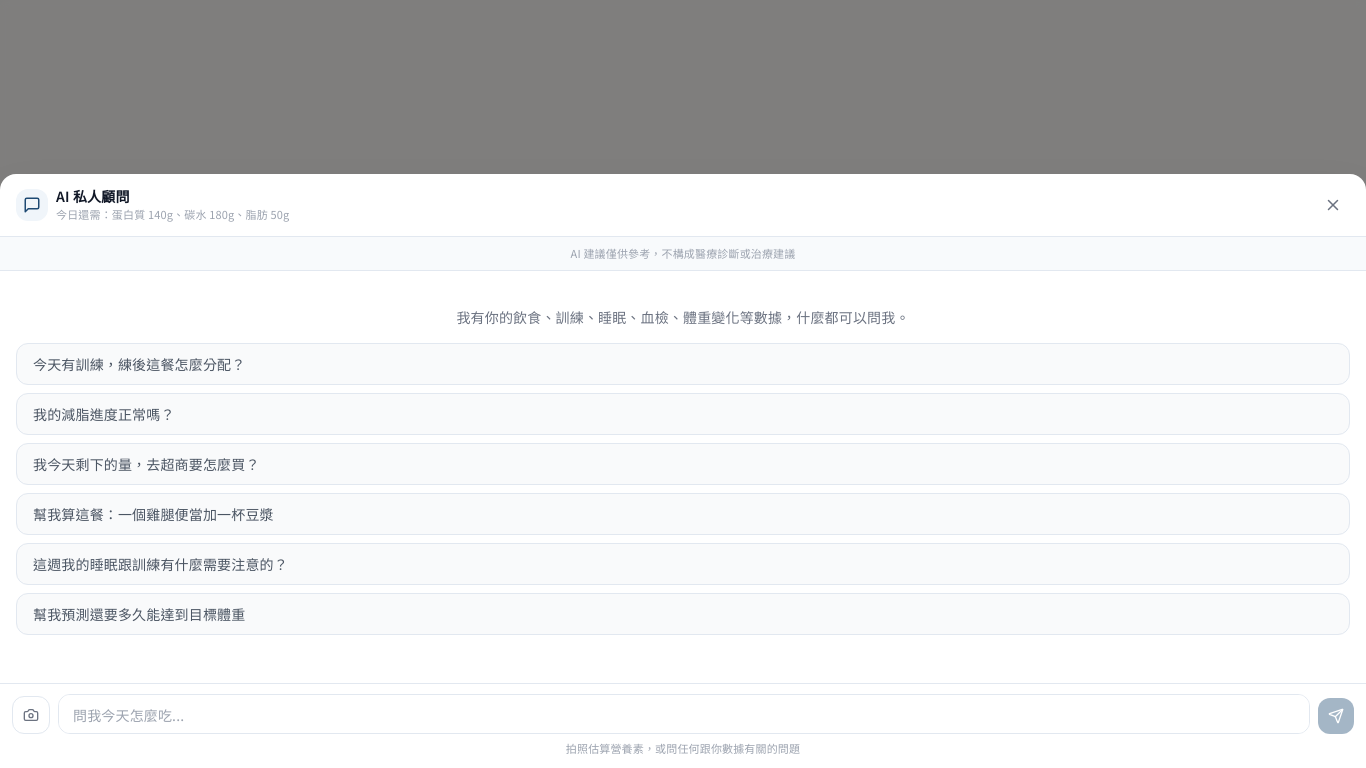
Test case: AiChatDrawer › shows loading indicator after sending a message
Type "今天吃什麼" into the text box with placeholder "問我今天怎麼吃..." at (684, 714), box [58,694,1310,734]
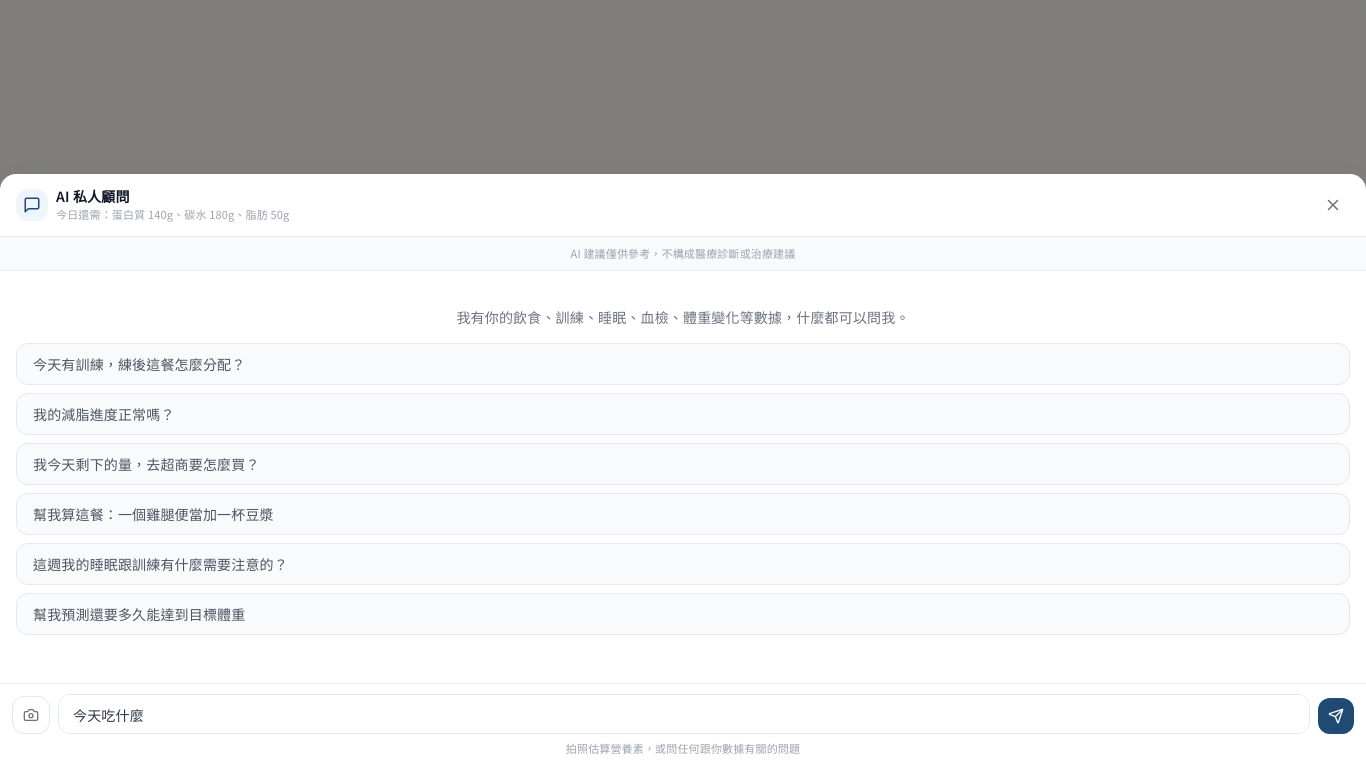
Press Enter in the text box, box [58,694,1310,734]
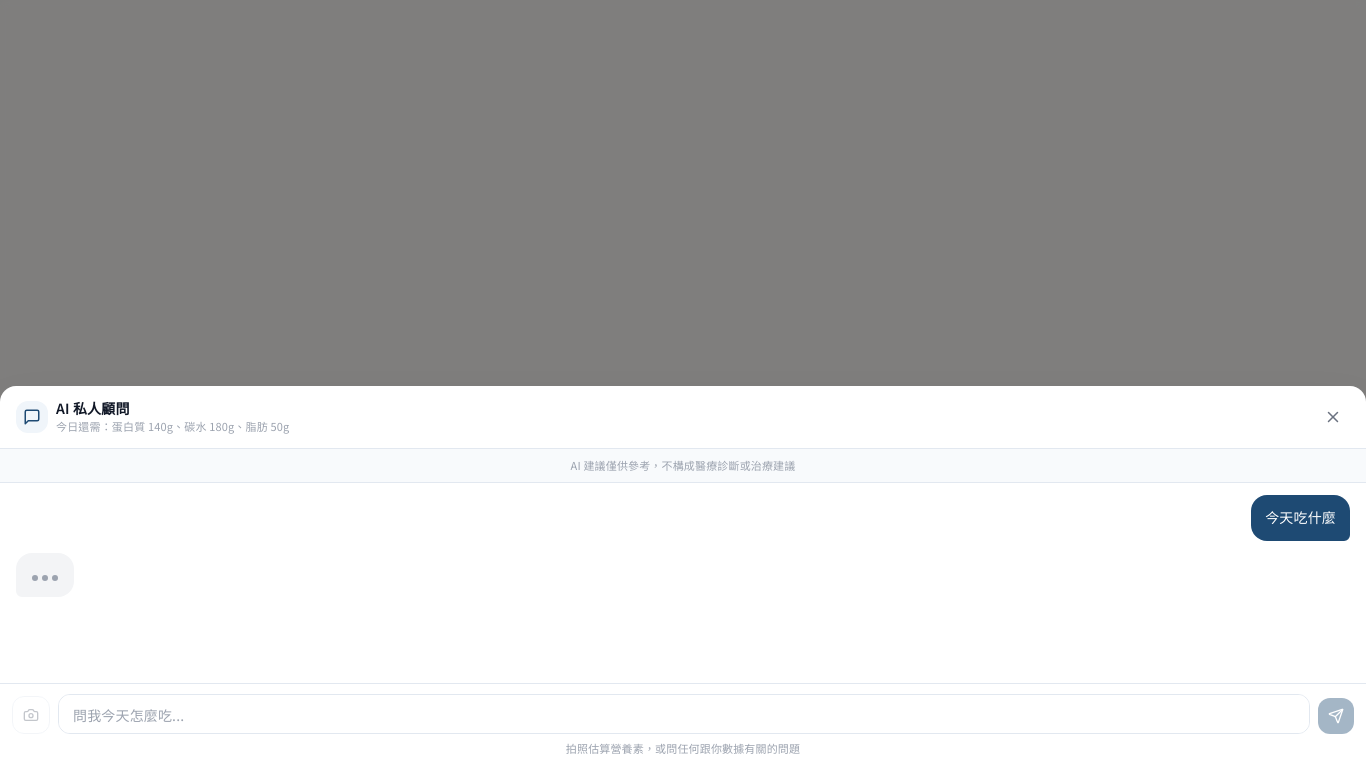
Result: the text "今天吃什麼" is shown at [1251,495,1350,541]
Result: the 1st element with class "animate-bounce" is shown at [32,575,38,581]
